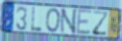3: (15, 5, 27, 32)
E: (76, 8, 93, 36)
L: (30, 6, 43, 33)
N: (59, 8, 79, 36)
O: (45, 7, 61, 34)
Z: (92, 11, 109, 38)
